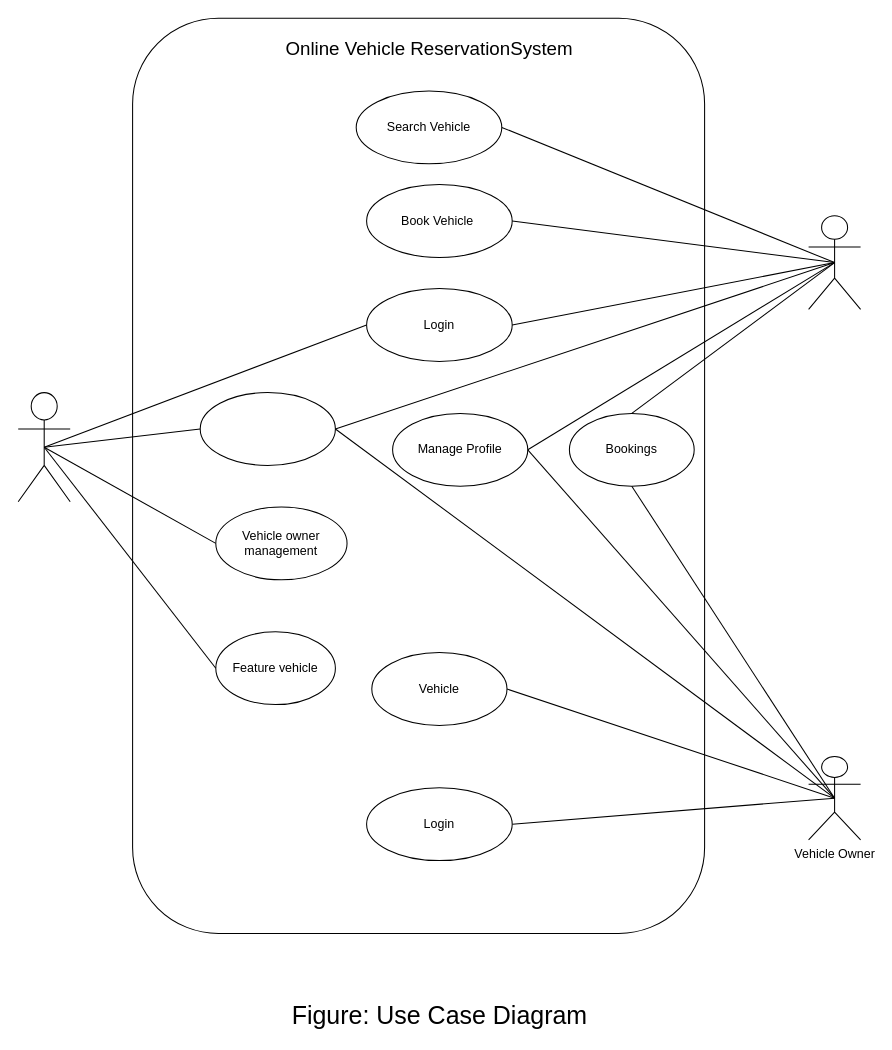
The diagram is 892 pixels wide and 1050 high, and some of its shapes have lost their labels. Here are the shapes that lost their labels. From the top down, the centre of each, then its label:
At (834,262): "User".
At (43,447): "Admin".
At (267,428): "Change password".
